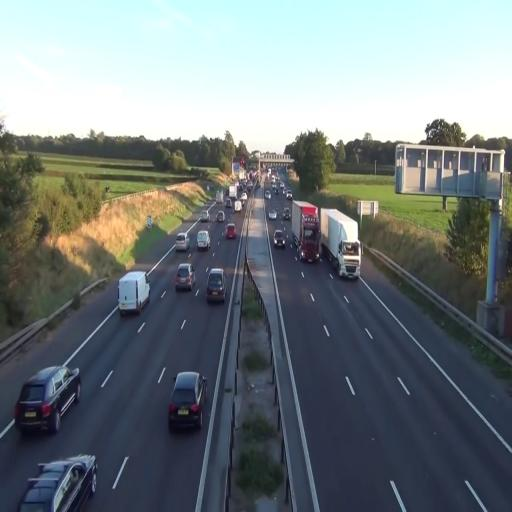vehicle: (14, 363, 81, 436), (16, 453, 98, 512), (320, 208, 362, 281), (167, 370, 205, 433), (296, 201, 320, 264), (118, 270, 150, 317), (206, 268, 225, 304), (174, 262, 194, 293), (197, 228, 210, 251), (274, 230, 287, 248), (176, 233, 189, 251), (213, 206, 225, 223), (225, 224, 237, 240)
